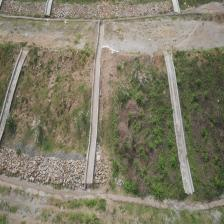rock_toe: (0, 146, 87, 190), (52, 0, 175, 16), (0, 0, 45, 15)
slope_drain: (163, 44, 195, 196), (85, 20, 105, 186), (0, 50, 27, 144)
